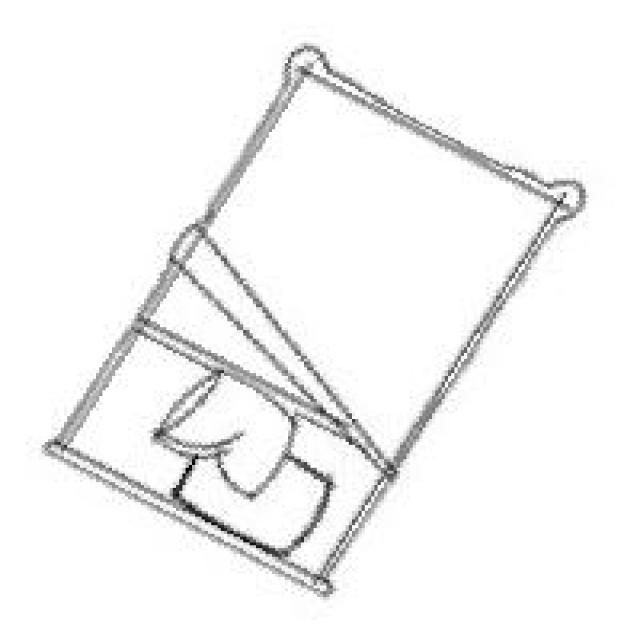bed: (42, 46, 576, 591)
